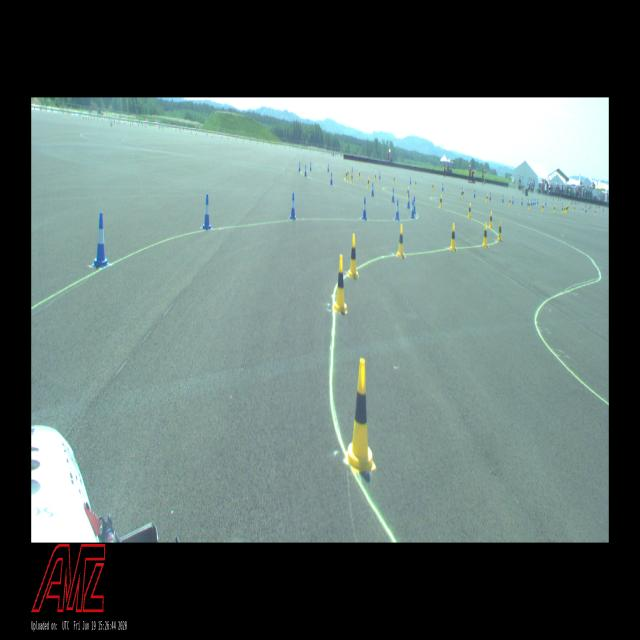blue_cone: (94, 213, 108, 266), (203, 194, 211, 229), (290, 193, 296, 219), (362, 198, 367, 219), (396, 200, 400, 220), (410, 200, 414, 218), (391, 188, 395, 202), (407, 193, 410, 208), (371, 182, 374, 196), (330, 172, 333, 185), (414, 197, 416, 213), (304, 166, 306, 177), (298, 162, 300, 172), (310, 162, 312, 171), (327, 163, 329, 172), (442, 183, 444, 191), (512, 196, 514, 204), (521, 198, 523, 205), (474, 190, 476, 197), (502, 195, 504, 202), (489, 193, 491, 200), (534, 198, 536, 205), (532, 199, 534, 205), (461, 188, 462, 195), (537, 198, 538, 205), (410, 177, 411, 184), (379, 172, 380, 179), (545, 199, 546, 205), (531, 199, 532, 205), (352, 167, 353, 173), (585, 207, 586, 212), (528, 198, 528, 205), (562, 202, 562, 208)
unknown_cone: (558, 197, 559, 202), (560, 197, 561, 201), (599, 204, 600, 208), (596, 205, 597, 208), (603, 208, 604, 211), (572, 200, 573, 203), (579, 200, 580, 203), (553, 197, 554, 200), (598, 204, 599, 207), (577, 202, 578, 204), (591, 205, 591, 209), (589, 206, 589, 210), (563, 197, 563, 200), (571, 201, 571, 205), (575, 200, 575, 204), (576, 202, 576, 204), (586, 202, 586, 205)
yellow_cone: (348, 359, 372, 471), (334, 254, 347, 312), (348, 234, 358, 278), (397, 224, 405, 258), (450, 222, 456, 250), (482, 223, 488, 248), (498, 221, 502, 242), (489, 211, 493, 228), (468, 203, 471, 218), (440, 194, 442, 208), (368, 177, 370, 188), (351, 173, 353, 183), (347, 169, 349, 179), (432, 182, 434, 191), (509, 197, 511, 206), (486, 194, 488, 203), (414, 179, 416, 188), (462, 189, 464, 198), (393, 176, 395, 184), (528, 202, 530, 210), (542, 204, 544, 211), (564, 206, 566, 213), (562, 206, 564, 213), (407, 186, 408, 198), (582, 207, 584, 213), (375, 172, 376, 181), (359, 170, 360, 179), (346, 171, 347, 180), (554, 205, 555, 212), (595, 209, 596, 215), (566, 206, 567, 212), (574, 206, 575, 211), (567, 205, 567, 211), (568, 205, 568, 210)
